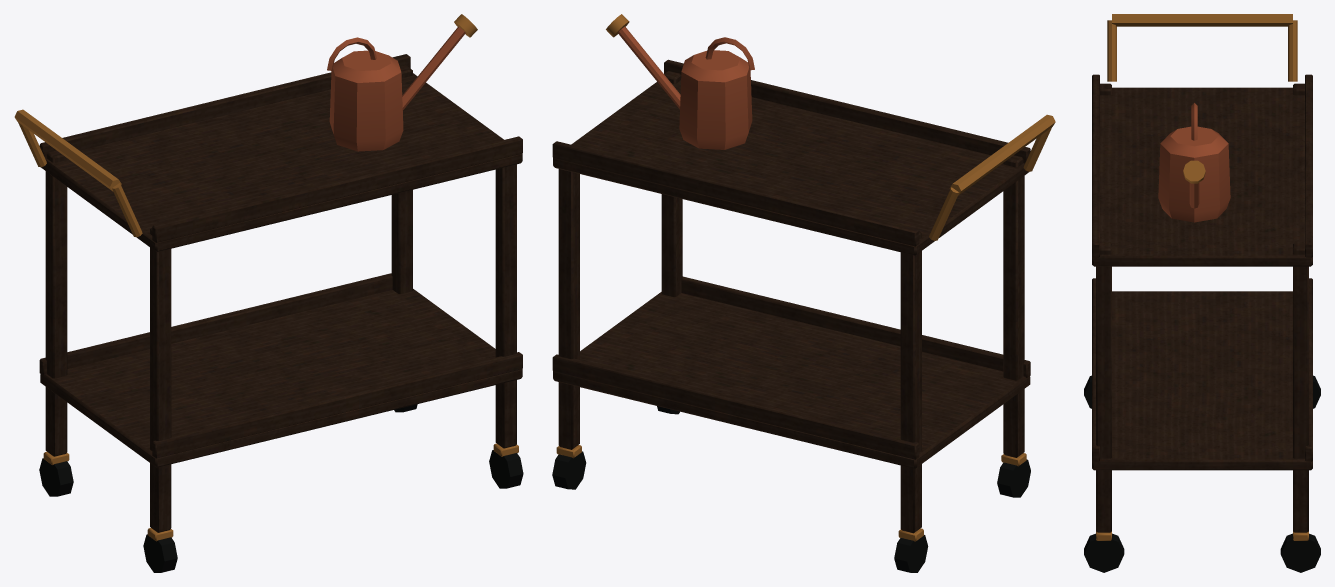
File: conservatory-equipment-cart.lod1.glb
3 views of the same model, side by side, from view 1: azimuth 30°, elevation 25°; view 2: azimuth 150°, elevation 25°; view 3: azimuth 270°, elevation 25° (orthographic). The views are drawn at different scales.
Visible parts, largest first — view 1: conservatory_equipment_cart_Timber • oiled walnut, conservatory_equipment_cart_Trim • places palette; view 2: conservatory_equipment_cart_Timber • oiled walnut, conservatory_equipment_cart_Trim • places palette; view 3: conservatory_equipment_cart_Timber • oiled walnut, conservatory_equipment_cart_Trim • places palette.
Boxes of the visible parts, x1,y1,x2,y2 form: conservatory_equipment_cart_Timber • oiled walnut: [39, 54, 522, 532]; conservatory_equipment_cart_Trim • places palette: [14, 14, 523, 572]; conservatory_equipment_cart_Timber • oiled walnut: [552, 59, 1030, 533]; conservatory_equipment_cart_Trim • places palette: [552, 14, 1055, 572]; conservatory_equipment_cart_Timber • oiled walnut: [1092, 74, 1312, 532]; conservatory_equipment_cart_Trim • places palette: [1084, 14, 1320, 572].
Size of the model in its own units: 1.11 by 1.14 by 0.59.
Materials: 2 (2 with a texture image).
